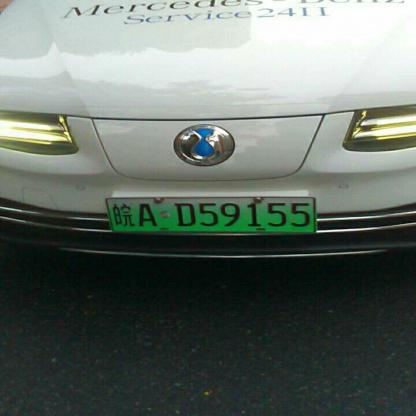lp: (105, 196, 315, 231)
